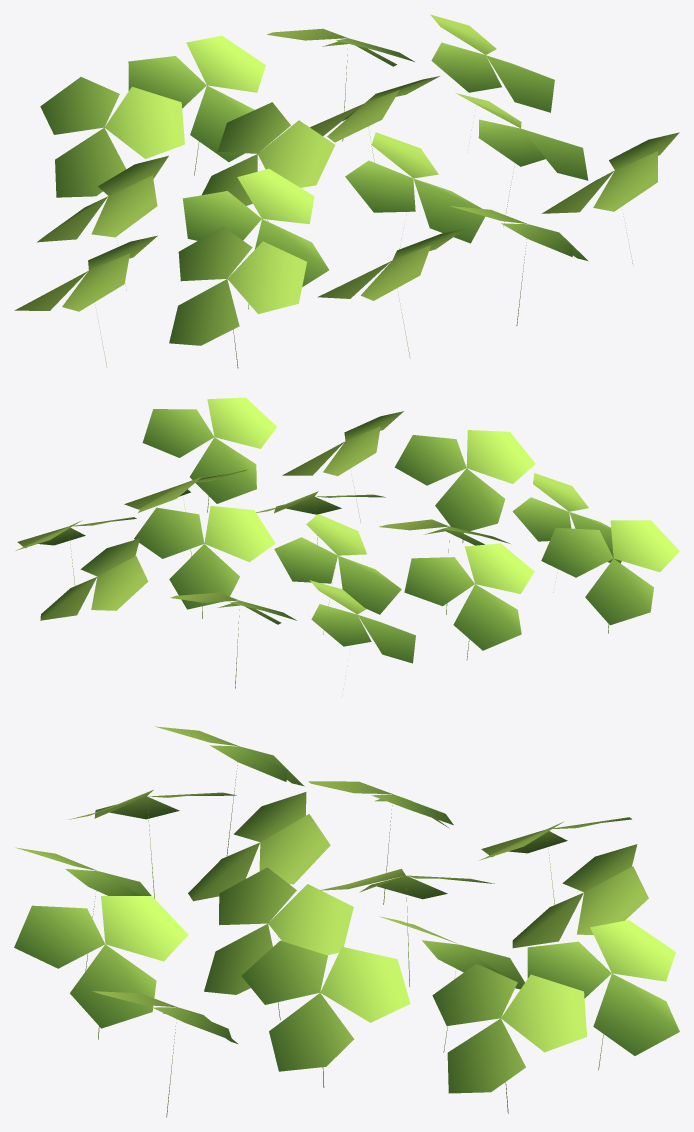
The model's file is clovers_1.glb.
The picture shows the model from 3 angles, top to bottom: view 1: azimuth 30°, elevation 25°; view 2: azimuth 150°, elevation 25°; view 3: azimuth 270°, elevation 25°; orthographic projection. The views are drawn at different scales.
Parts seen in each view (by area): view 1: clover_1; view 2: clover_1; view 3: clover_1.
Boxes of the visible parts, <box> form: clover_1: <box>14,14,679,368</box>; clover_1: <box>15,397,679,688</box>; clover_1: <box>14,726,679,1117</box>.
Bounding box in the file's own units: 1.69 × 0.3057 × 1.41.
Materials: 1 (1 with a texture image).
